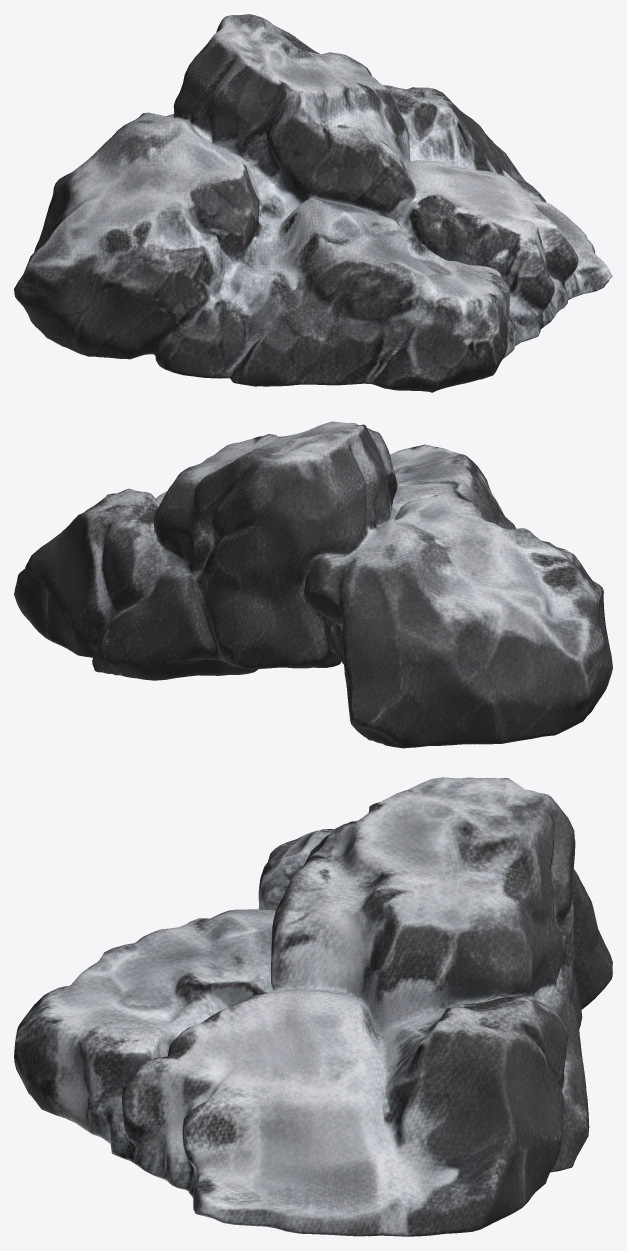
File: NewMethaneRock_base_basic_pbr.glb
3 views of the same model, one above another, from view 1: azimuth 30°, elevation 25°; view 2: azimuth 150°, elevation 25°; view 3: azimuth 270°, elevation 25° (orthographic). The views are drawn at different scales.
Parts seen in each view (by area): view 1: model; view 2: model; view 3: model.
Boxes of the visible parts, <box> form: model: <box>14,14,612,392</box>; model: <box>14,421,612,748</box>; model: <box>14,777,612,1236</box>.
Bounding box in the file's own units: 1.89 × 0.8083 × 1.52.
Materials: 1 (1 with a texture image).
